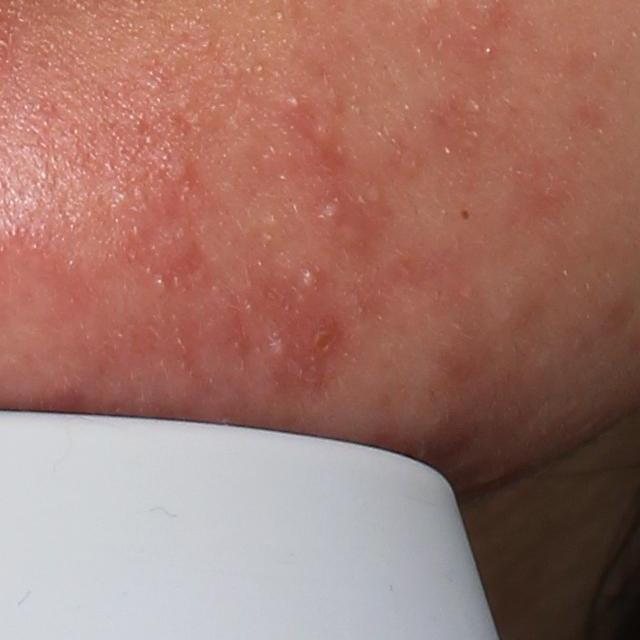comedo: (320, 197, 345, 223), (298, 266, 321, 292), (457, 205, 476, 223)
papule: (307, 321, 342, 359)
